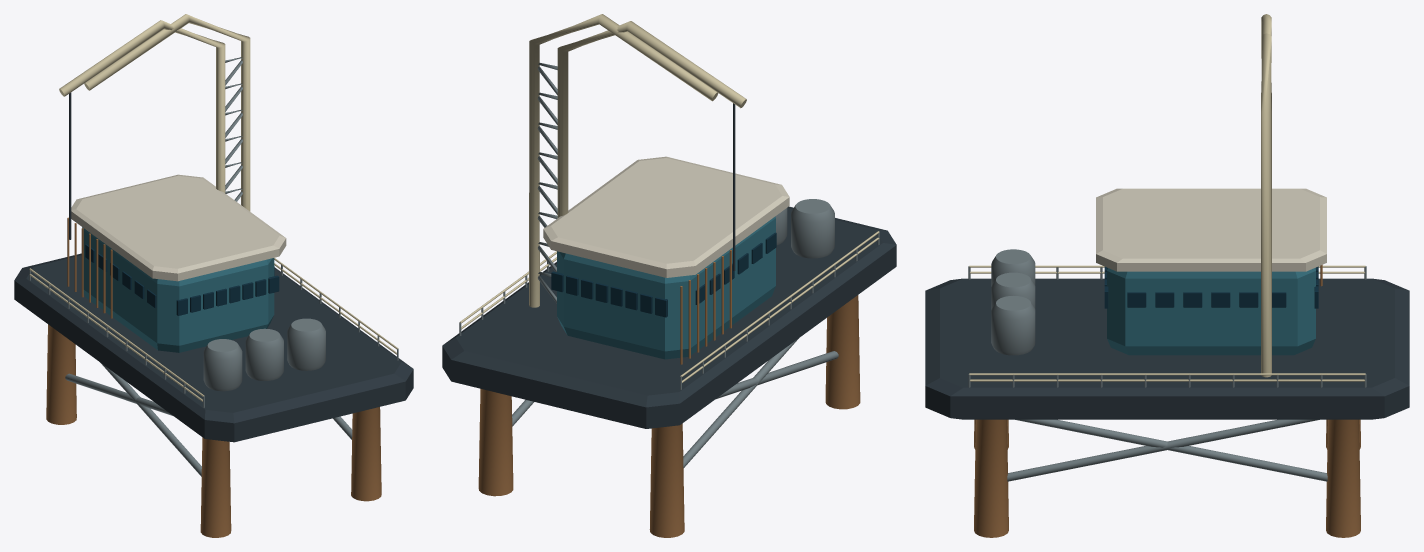
File: landmark_thalassa.glb
3 renders of one model, left to right at view 1: azimuth 30°, elevation 25°; view 2: azimuth 150°, elevation 25°; view 3: azimuth 270°, elevation 25°, orthographic. The views are drawn at different scales.
Visible parts, largest first — view 1: landmark_thalassa; view 2: landmark_thalassa; view 3: landmark_thalassa.
Part boxes in pixels (box(x1,y1,x2,y2)): landmark_thalassa: box(14, 14, 413, 537); landmark_thalassa: box(442, 14, 896, 537); landmark_thalassa: box(925, 14, 1409, 537).
Size of the model in its own units: 25.69 by 46.5 by 44.
